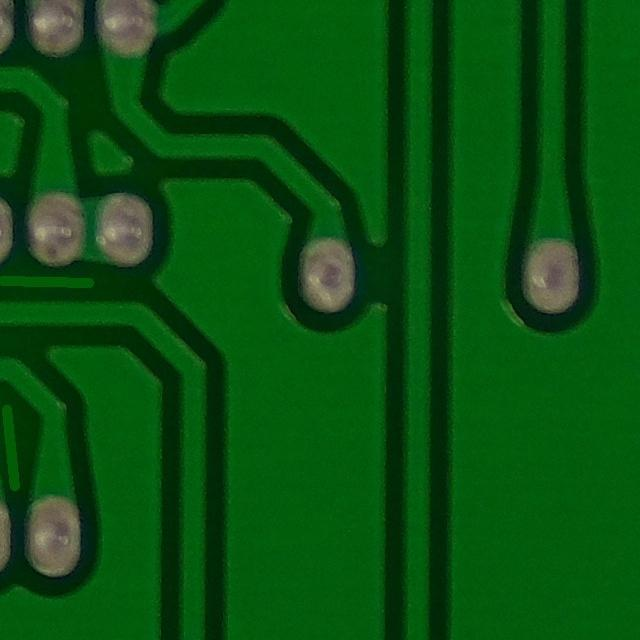spurious_copper: (0, 253, 101, 310), (0, 396, 34, 492)
